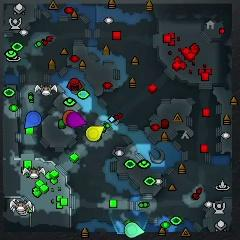p1: (25, 111, 42, 128)
p2: (125, 222, 144, 238)
p3: (67, 112, 86, 128)
p4: (86, 126, 105, 142)
p5: (63, 110, 73, 126)
